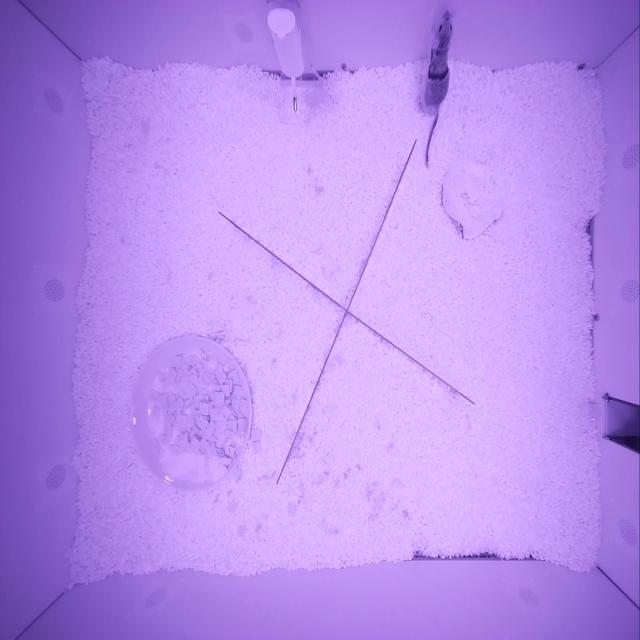adult_front: (423, 10, 454, 107)
